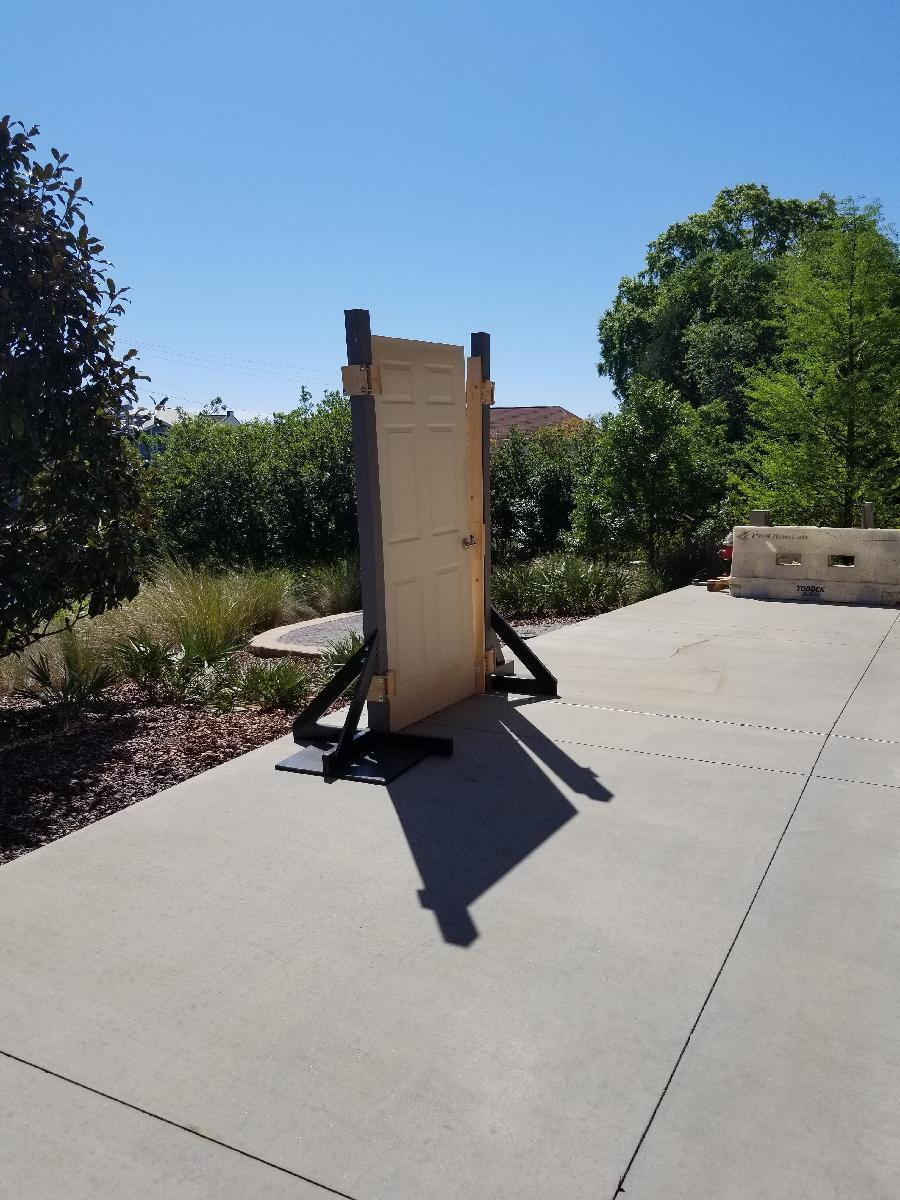door: (374, 335, 483, 724)
handle: (460, 535, 480, 553)
